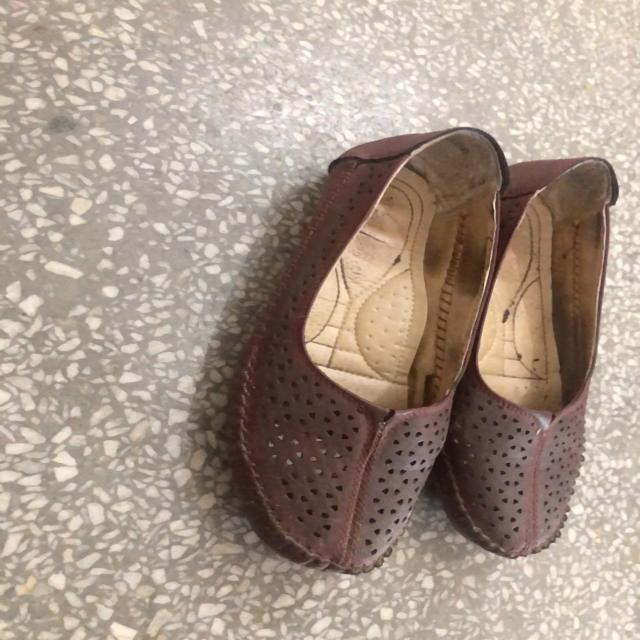shoe: (229, 121, 511, 573), (454, 159, 613, 555)
